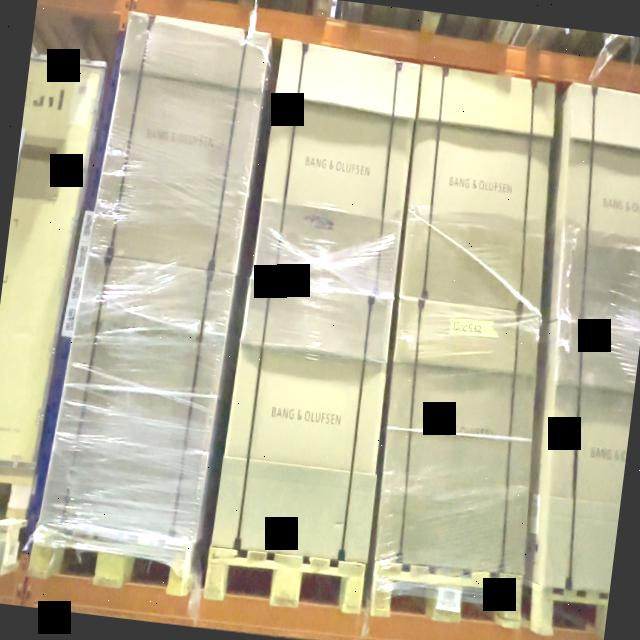box: (41, 254, 234, 539), (211, 278, 393, 563), (89, 12, 272, 275), (375, 296, 541, 574), (252, 39, 421, 298), (399, 65, 555, 312)
